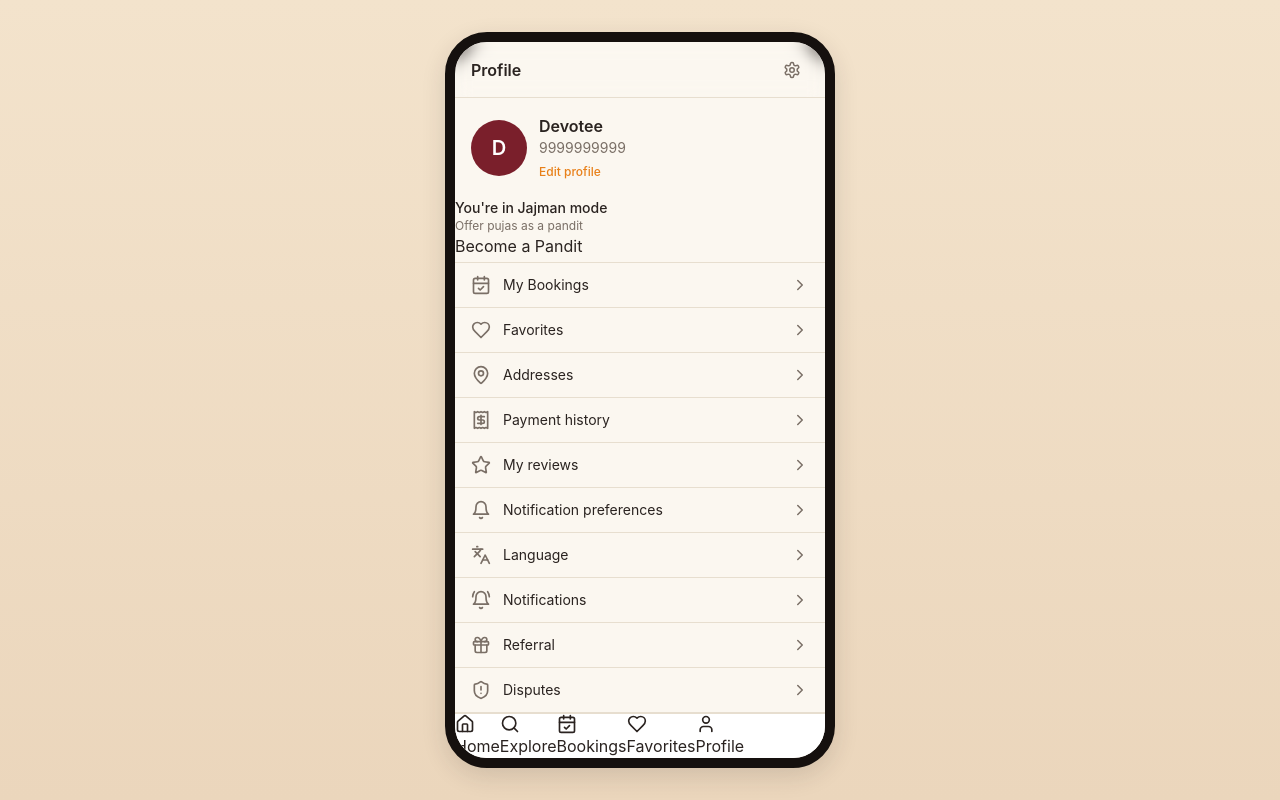
Test: comms flow (integration) › Profile → Disputes shows the seeded disputes
Click the button "Disputes".
click(532, 690)  # box [455, 667, 825, 712]
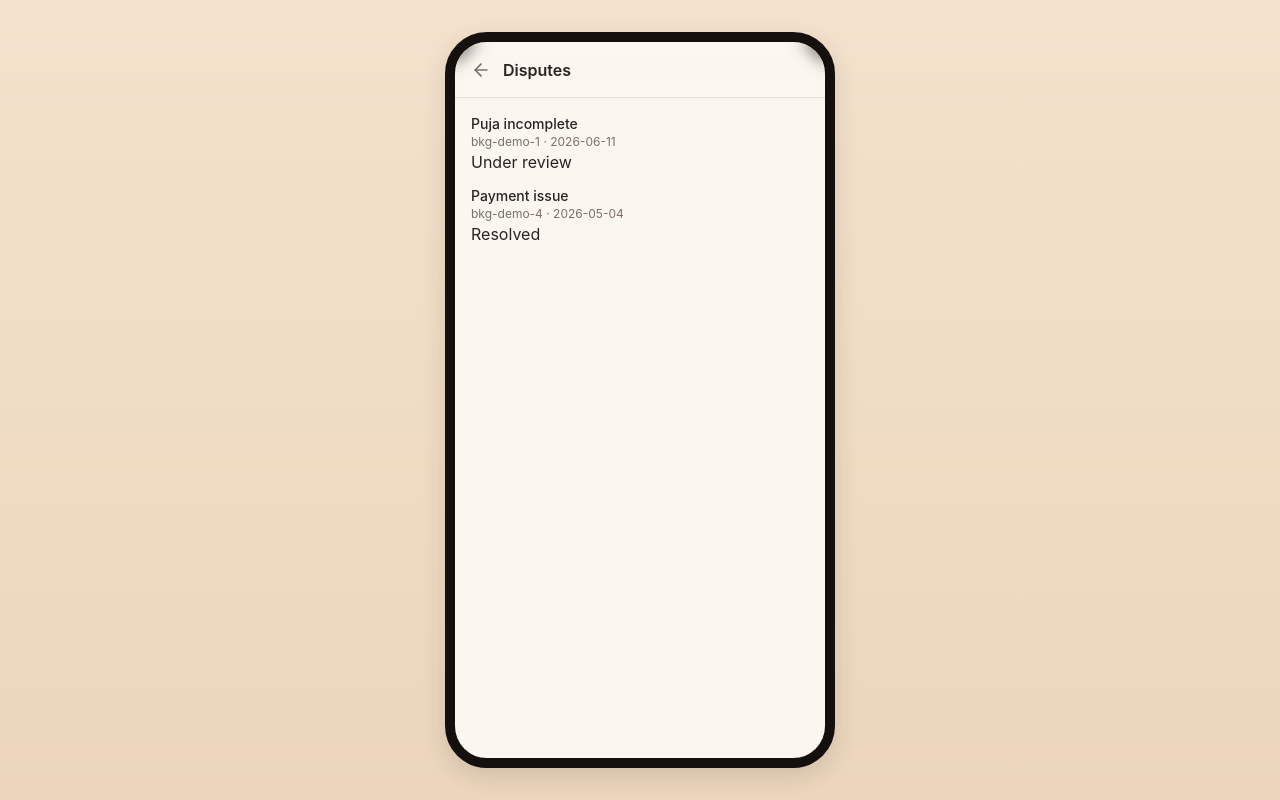
Now the text "Puja incomplete" is shown, box [471, 115, 578, 132]
